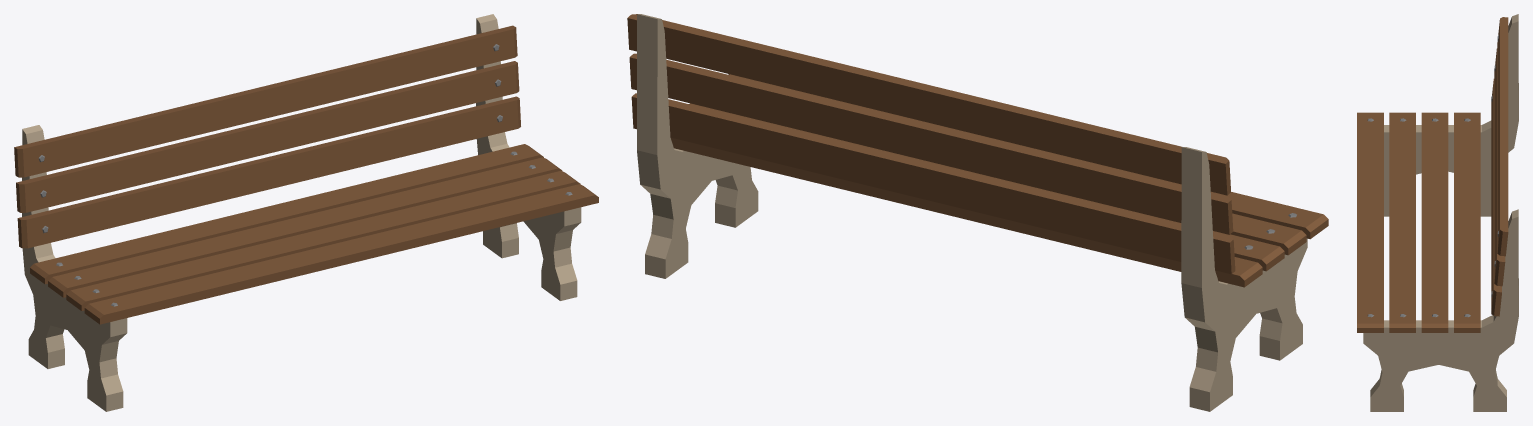
Rendered from Ext_Bench01.fbx.
3 renders of one model, left to right at view 1: azimuth 30°, elevation 25°; view 2: azimuth 150°, elevation 25°; view 3: azimuth 270°, elevation 25°, orthographic. The views are drawn at different scales.
Parts seen in each view (by area): view 1: Ext_Bench01; view 2: Ext_Bench01; view 3: Ext_Bench01.
Part boxes in pixels (x1,y1,x2,y2): Ext_Bench01: [14, 14, 598, 411]; Ext_Bench01: [627, 14, 1328, 411]; Ext_Bench01: [1357, 14, 1518, 411].
Size of what is drawn, in the model's own units: 300 by 95.63 by 127.
